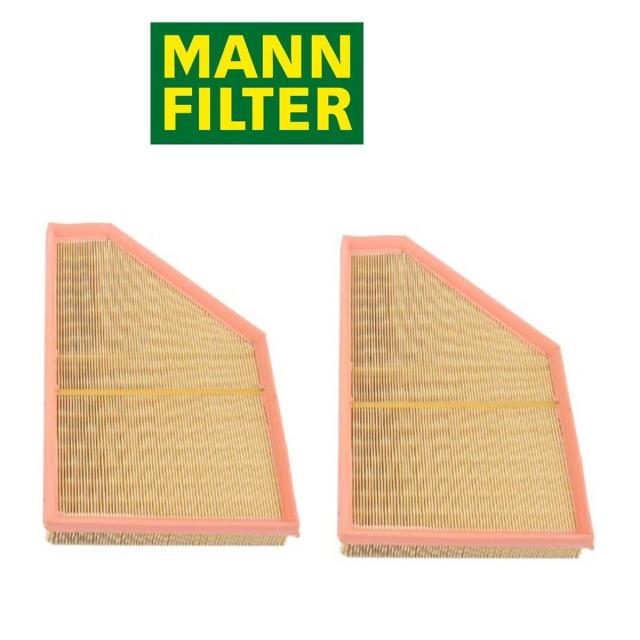air_filter: (338, 230, 600, 561), (43, 220, 304, 551)
